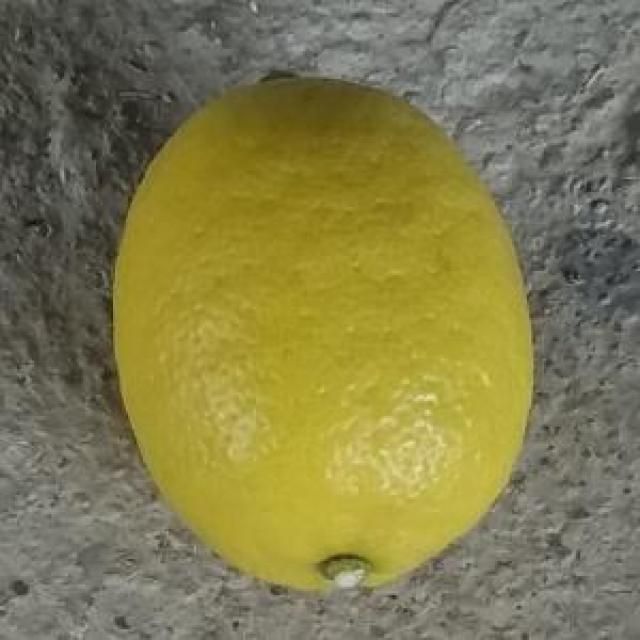lemon: (112, 70, 536, 599)
